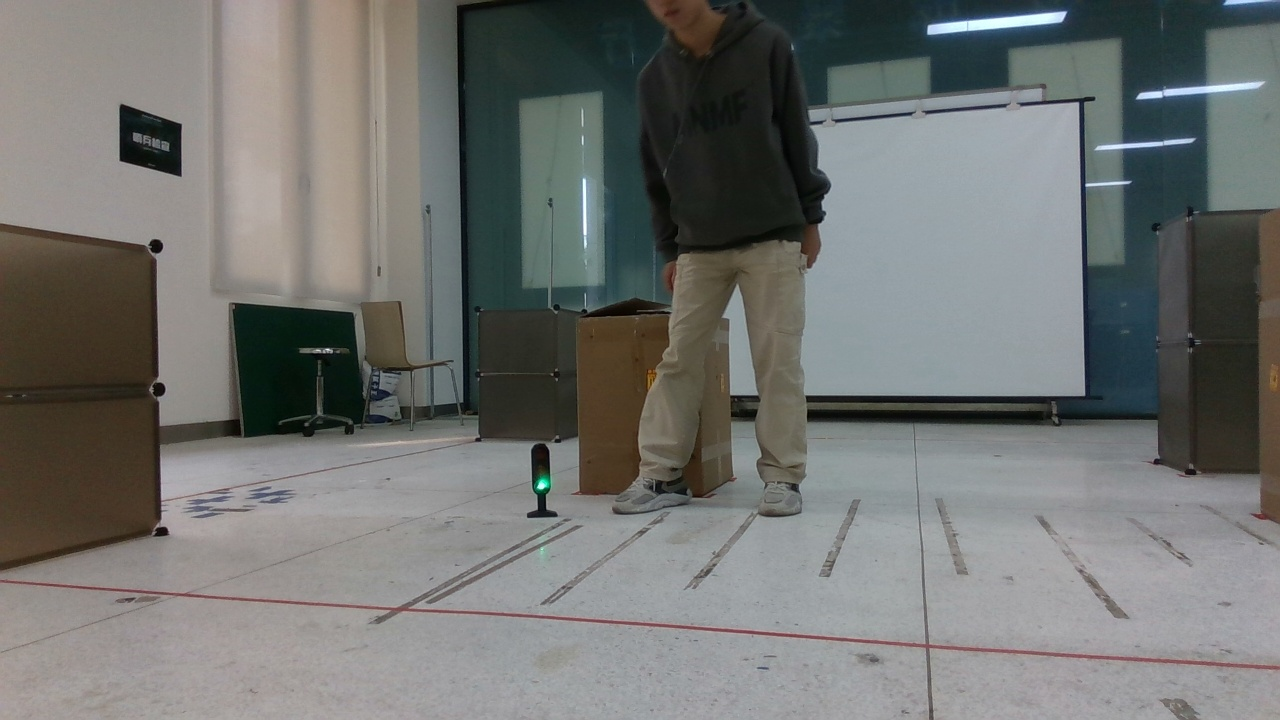green_light: (517, 431, 571, 524)
